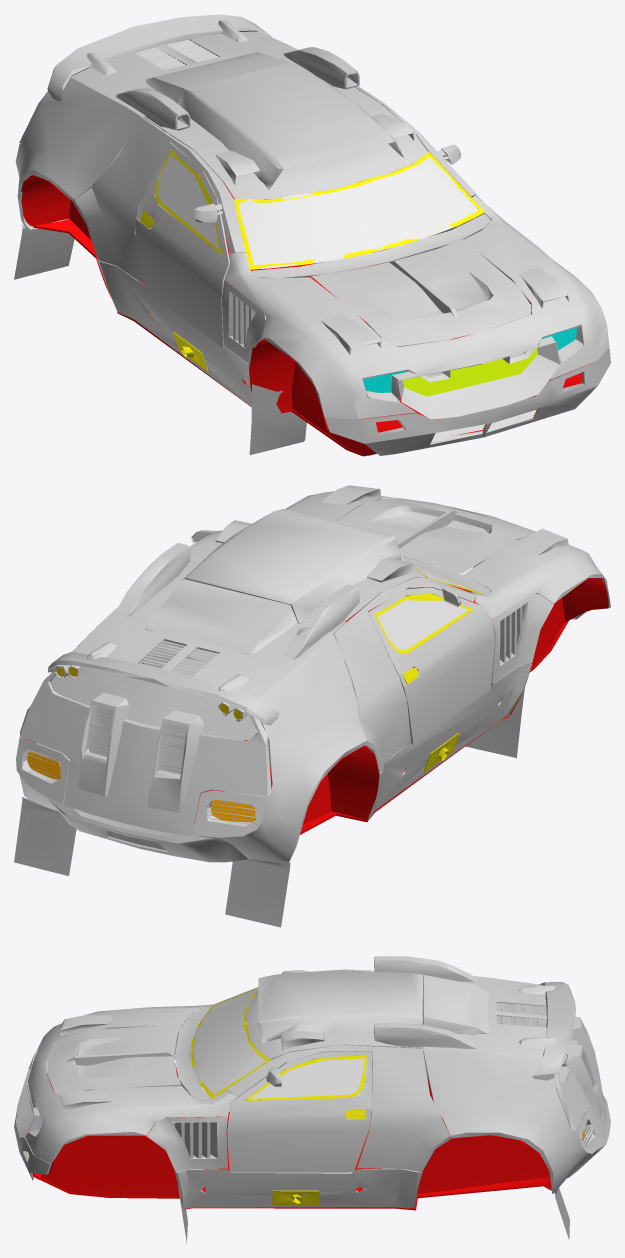
The model's file is SUV_3_Optimal.fbx.
3 renders of one model, top to bottom at view 1: azimuth 30°, elevation 25°; view 2: azimuth 150°, elevation 25°; view 3: azimuth 270°, elevation 25°, orthographic. The views are drawn at different scales.
Visible parts, largest first — view 1: SUV_3; view 2: SUV_3; view 3: SUV_3.
Boxes of the visible parts, left/top/right/bottom form: SUV_3: left=14, top=14, right=610, bottom=456; SUV_3: left=14, top=485, right=610, bottom=927; SUV_3: left=14, top=956, right=610, bottom=1243.
Bounding box in the file's own units: 363 × 291 × 790.
